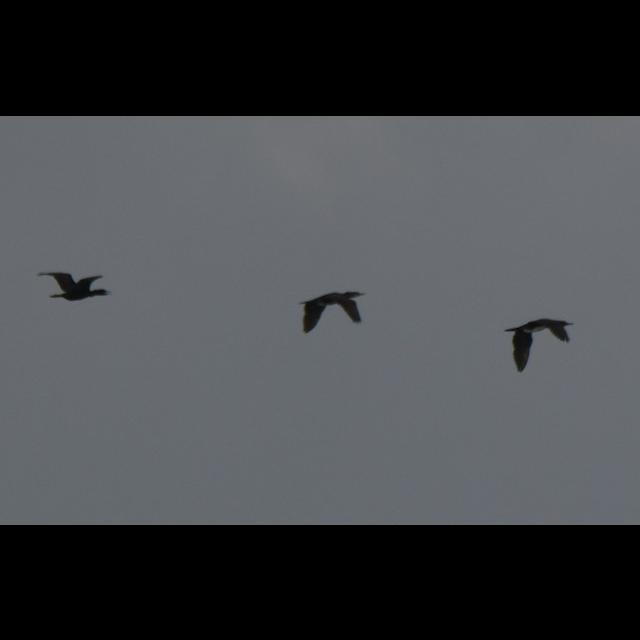cormorant: (506, 314, 576, 374), (296, 282, 366, 336), (34, 268, 112, 310)
